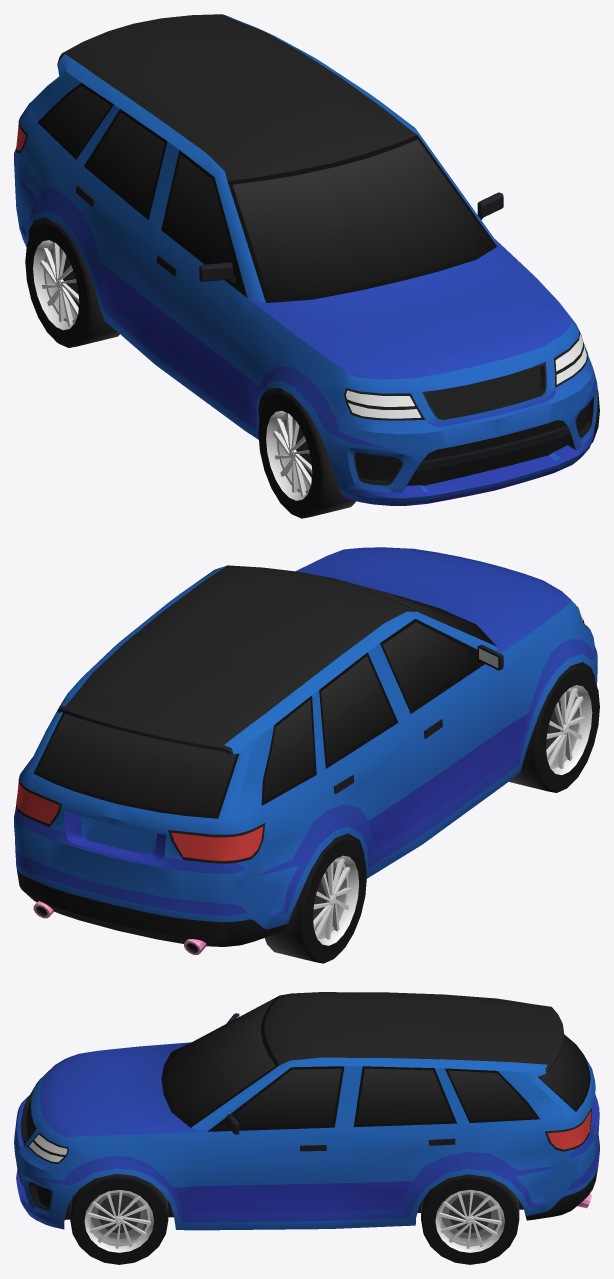
Rendered from Car_3.fbx.
The picture shows the model from 3 angles, top to bottom: view 1: azimuth 30°, elevation 25°; view 2: azimuth 150°, elevation 25°; view 3: azimuth 270°, elevation 25°; orthographic projection. The views are drawn at different scales.
Visible parts, largest first — view 1: Car_3, Car_3_tire, Car_3_tire.003; view 2: Car_3, Car_3_tire.003, Car_3_tire; view 3: Car_3, Car_3_tire.001, Car_3_tire.002.
Part boxes in pixels (<box>): Car_3: <box>14,14,597,505</box>; Car_3_tire: <box>258,390,355,518</box>; Car_3_tire.003: <box>25,220,119,347</box>; Car_3: <box>14,547,597,954</box>; Car_3_tire.003: <box>265,835,366,963</box>; Car_3_tire: <box>508,665,599,792</box>; Car_3: <box>14,992,599,1230</box>; Car_3_tire.001: <box>70,1174,168,1264</box>; Car_3_tire.002: <box>421,1174,519,1264</box>.
Size of the model in its own units: 163 by 132 by 363.
